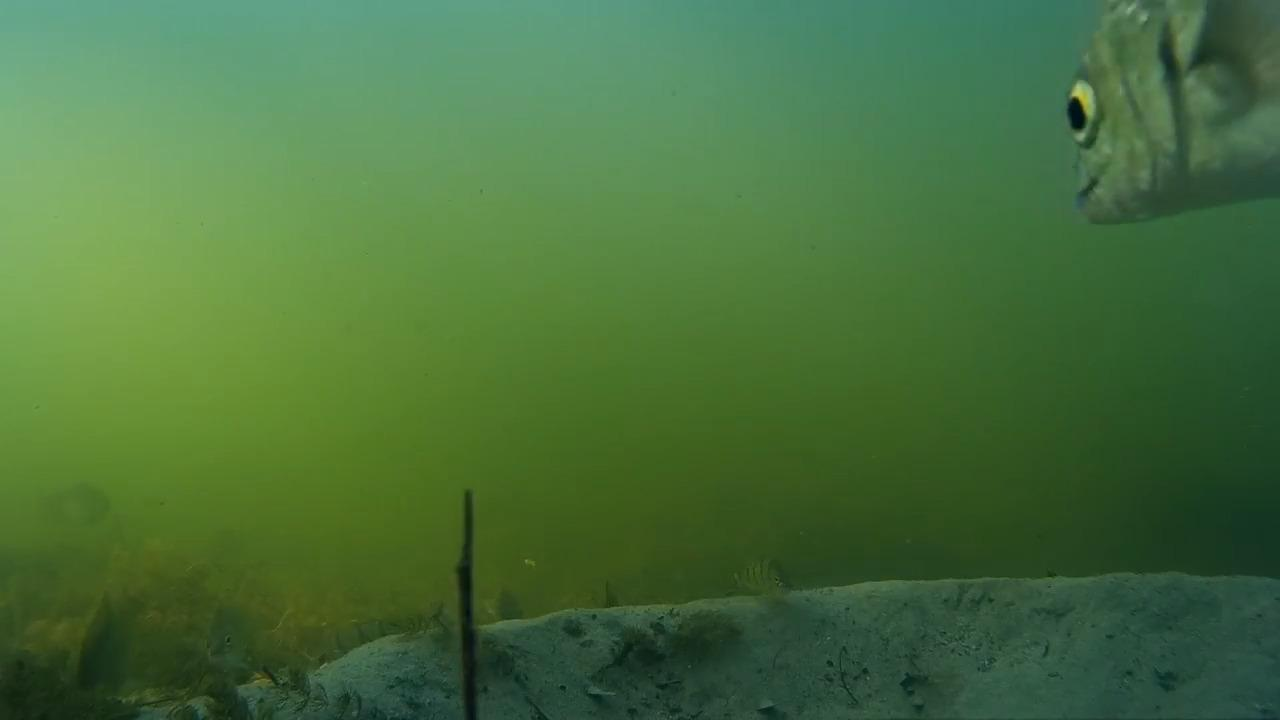Tilapia: (1053, 0, 1280, 231), (70, 594, 147, 704), (41, 474, 129, 542), (193, 584, 250, 670), (724, 558, 803, 610)
